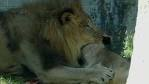lion: (2, 2, 114, 84)
